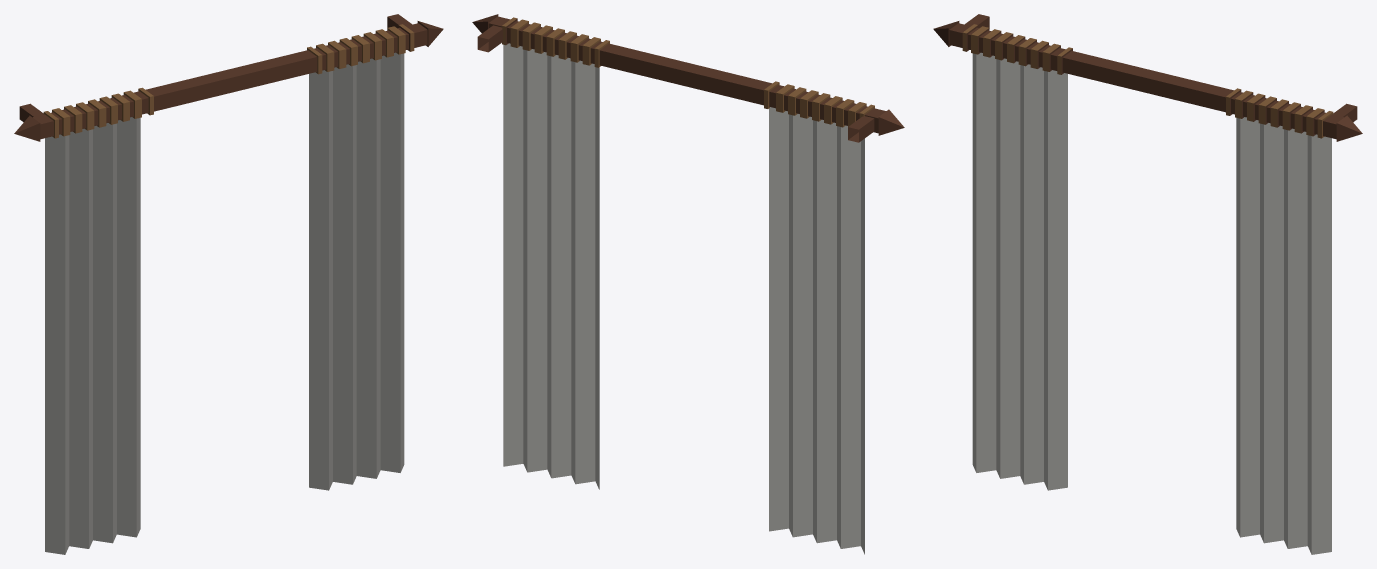
The model's file is Curtain_4A.fbx.
3 views of the same model, side by side, from view 1: azimuth 30°, elevation 25°; view 2: azimuth 150°, elevation 25°; view 3: azimuth 330°, elevation 25° (orthographic).
Visible parts, largest first — view 1: polySurface786; view 2: polySurface786; view 3: polySurface786.
Part boxes in pixels (<box>): polySurface786: <box>14,14,443,554</box>; polySurface786: <box>472,14,904,554</box>; polySurface786: <box>933,14,1362,554</box>.
Size of the model in its own units: 3.16 by 3.08 by 0.3278.
1 material, 1 textured.
